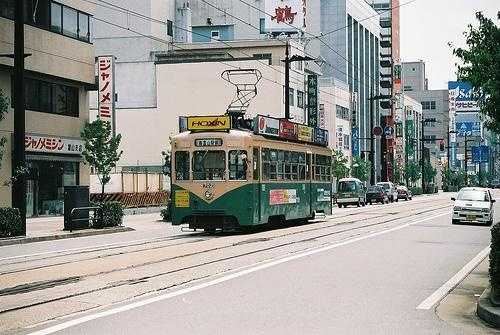car: (451, 187, 497, 227), (336, 177, 366, 207), (376, 182, 397, 203), (365, 188, 387, 203), (398, 186, 412, 201)
